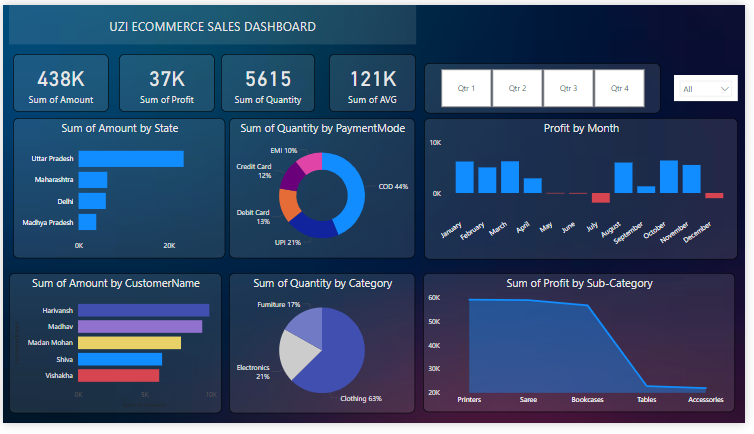

The page's visual inventory and layout, read from the dashboard file:
{"tool":"powerbi","page":{"name":"Page 1","canvas":[1280,720],"ordinal":0},"visuals":[{"type":"textbox","box":[10,0,702,68],"z":0},{"type":"clusteredColumnChart","title":"Profit by Month","fields":{"Y":["Details.Profit"],"Category":["Orders.Order Date.Variation.Date Hierarchy.Month"]},"box":[725.6,194.4,541.1,244.4],"z":1000},{"type":"stackedAreaChart","title":"Sum of Profit by Sub-Category","fields":{"Category":["Details.Sub-Category"],"Y":["Details.Amount"]},"box":[725,462.5,537.5,239.6],"z":2000},{"type":"donutChart","fields":{"Category":["Details.PaymentMode"],"Y":["Details.Quantity"]},"box":[389.7,194.9,320.8,241.9],"z":3000},{"type":"pieChart","fields":{"Category":["Details.Category"],"Y":["Details.Quantity"]},"box":[389.6,462.5,320.8,241.7],"z":4000},{"type":"barChart","fields":{"Category":["Orders.CustomerName"],"Y":["Details.Amount"]},"box":[10.4,462.5,366.7,241.7],"z":5000},{"type":"barChart","fields":{"Category":["Orders.State"],"Y":["Details.Amount"]},"box":[16.8,194.9,366.2,241.9],"z":5001},{"type":"card","fields":{"Values":["Details.Amount"]},"box":[16.7,85,165,100],"z":5002},{"type":"card","fields":{"Values":["Details.Profit"]},"box":[200,85,165,100],"z":5003},{"type":"card","fields":{"Values":["Details.Quantity"]},"box":[376.7,85,161.7,100],"z":5004},{"type":"card","fields":{"Values":["Details.AVG"]},"box":[561.2,85,150,100],"z":5005},{"type":"slicer","fields":{"Values":["Orders.Order Date.Variation.Date Hierarchy.Quarter"]},"box":[725.8,99.2,408.3,86.7],"z":5006},{"type":"slicer","fields":{"Values":["Orders.State"]},"box":[1157,120,110,45],"z":5009}]}

Visuals, with their boxes in screenshot pixels (x1, y1, x2, y2), scaled from the page's 1280x720 canvas onto the 754x434 screenshot:
textbox: Rect(6, 0, 419, 41)
"Profit by Month" clusteredColumnChart: Rect(427, 117, 746, 264)
"Sum of Profit by Sub-Category" stackedAreaChart: Rect(427, 279, 744, 423)
donutChart - Details.PaymentMode x Details.Quantity: Rect(230, 117, 419, 263)
pieChart - Details.Category x Details.Quantity: Rect(229, 279, 418, 424)
barChart - Orders.CustomerName x Details.Amount: Rect(6, 279, 222, 424)
barChart - Orders.State x Details.Amount: Rect(10, 117, 226, 263)
card - Details.Amount: Rect(10, 51, 107, 112)
card - Details.Profit: Rect(118, 51, 215, 112)
card - Details.Quantity: Rect(222, 51, 317, 112)
card - Details.AVG: Rect(331, 51, 419, 112)
slicer - Orders.Order Date.Variation.Date Hierarchy.Quarter: Rect(428, 60, 668, 112)
slicer - Orders.State: Rect(682, 72, 746, 99)
